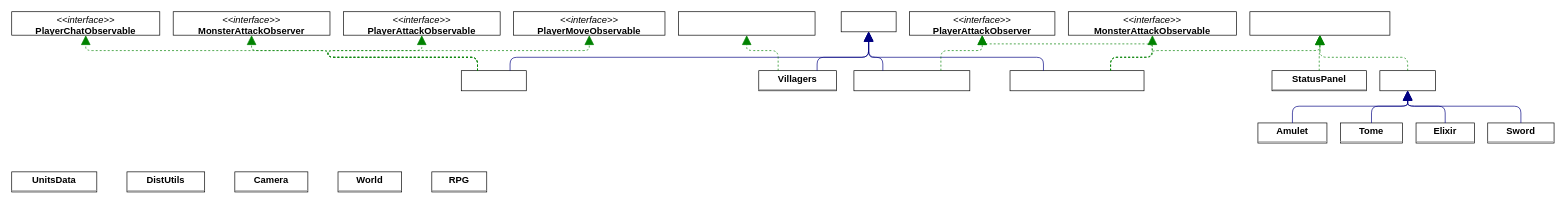
This 1566x204 diagram has some shape labels left out. The shapes that lost their labels are listed below. From the top down, each one's centre as x and y in pixels, then its label:
(746,23): <<interface>> PlayerChatObserver
(868,21): Unit
(1319,23): <<interface>> PlayerMoveObserver
(493,80): Player
(911,80): PassiveMonster
(1076,80): AggressiveMonster
(1407,80): Item
